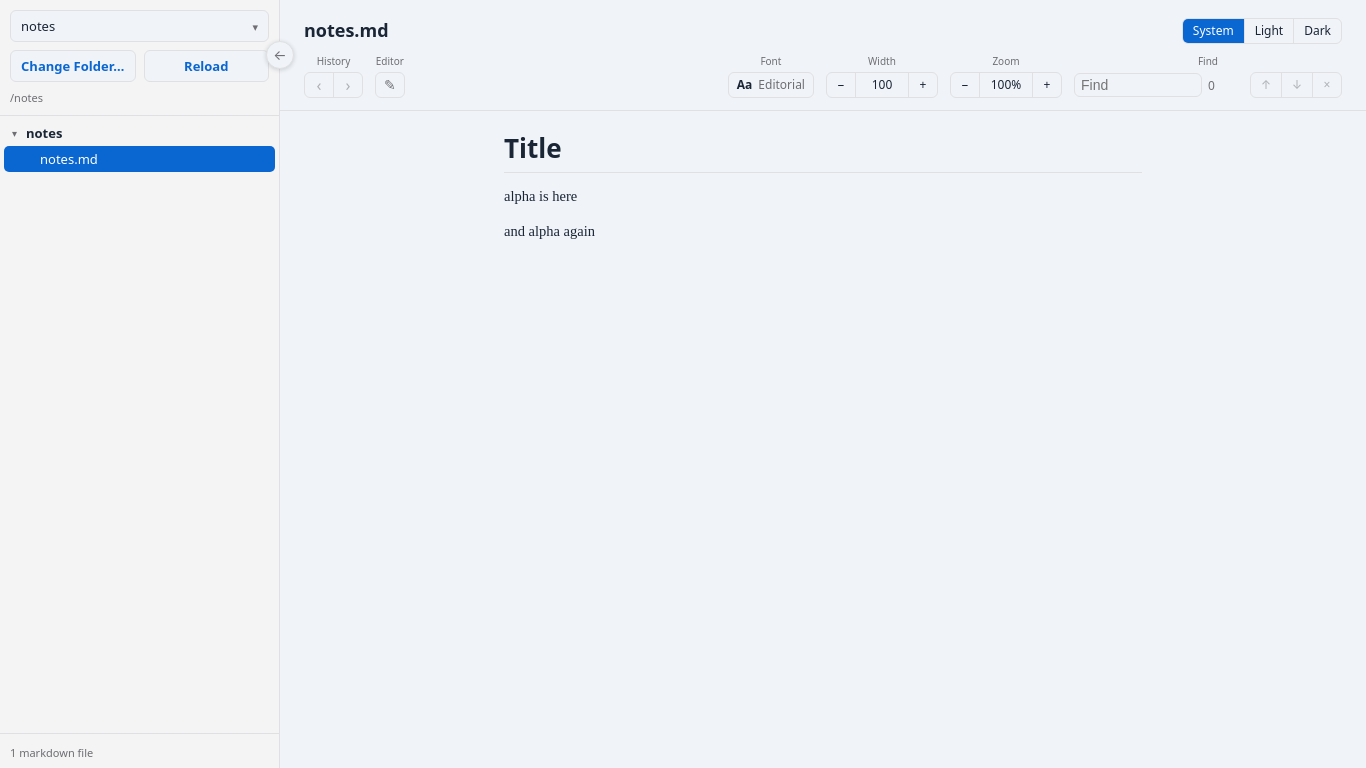
Test case: moves with the down arrow in the field
Step 1. Type "alpha" into the field named "Find in document" → (1138, 85), box [1074,73,1202,97]
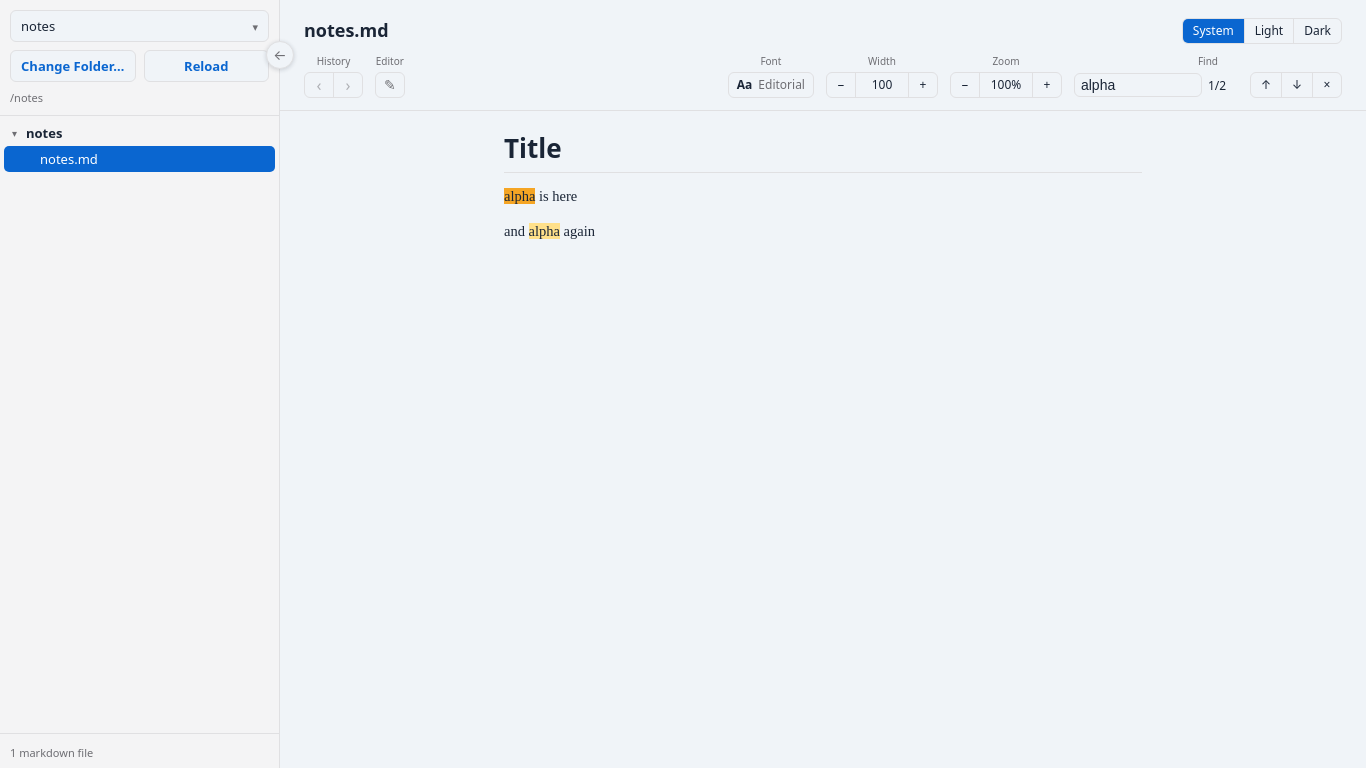
Step 2. Press Arrowdown
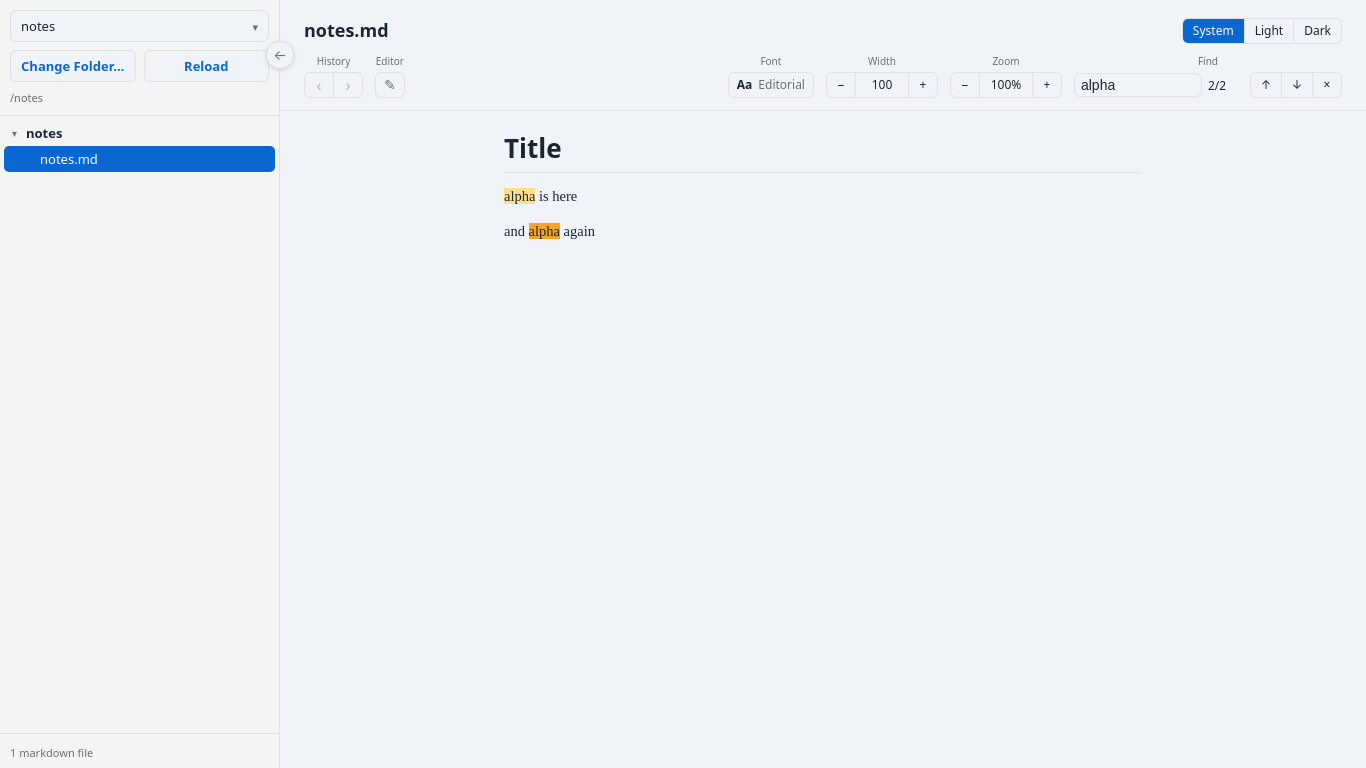
Expected: the text named "Match 2 of 2" is shown, [1208,76,1226,94]
